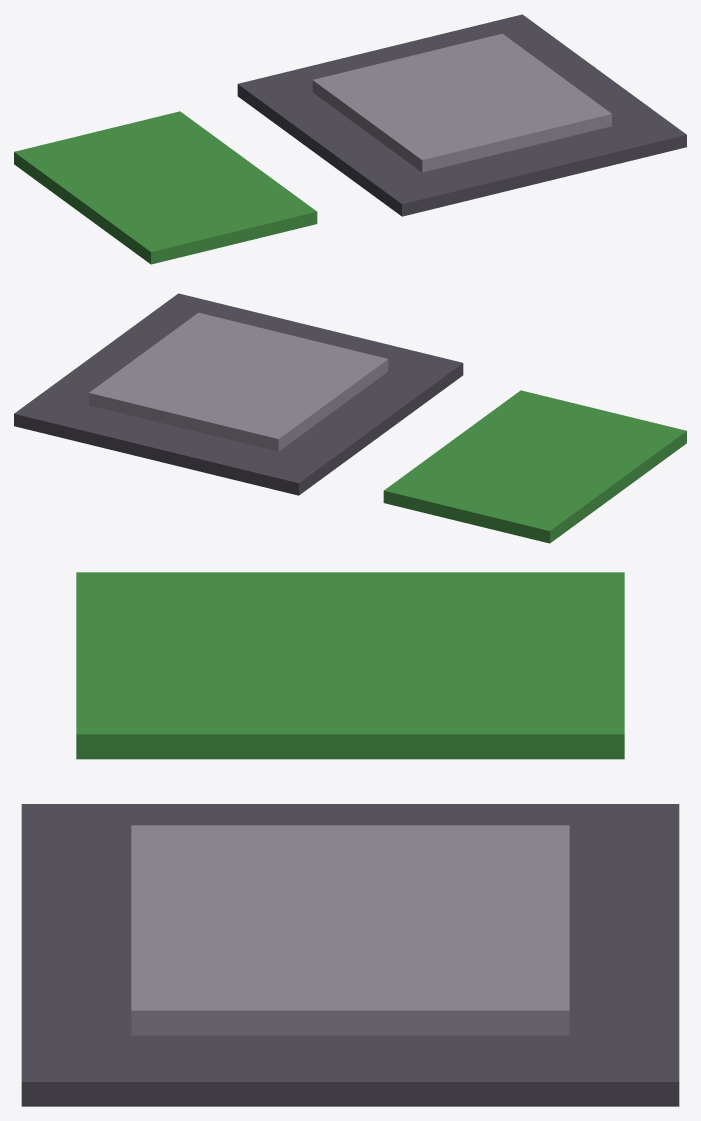
File: slot.fbx
3 views of the same model, one above another, from view 1: azimuth 30°, elevation 25°; view 2: azimuth 150°, elevation 25°; view 3: azimuth 270°, elevation 25° (orthographic). The views are drawn at different scales.
Visible parts, largest first — view 1: Slot; view 2: Slot; view 3: Slot.
Boxes of the visible parts, x1,y1,x2,y2 form: Slot: (14,14,686,264); Slot: (14,293,686,543); Slot: (21,572,679,1106).
Size of the model in its own units: 1100 by 50 by 600.
